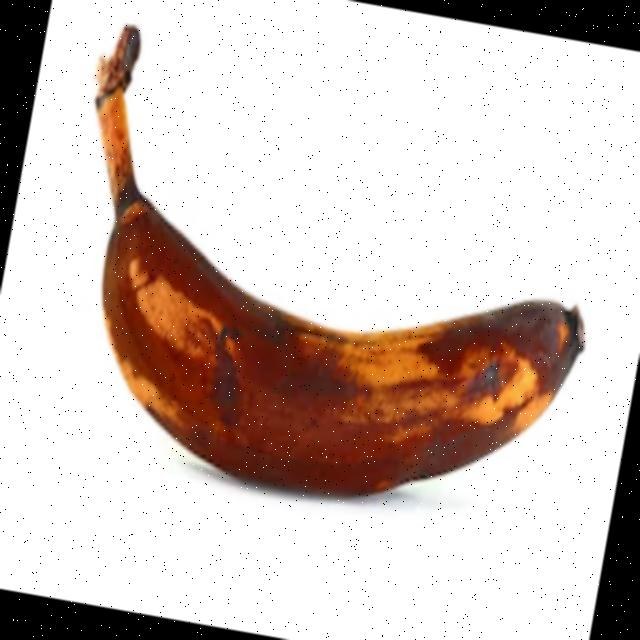Rotten: (10, 5, 634, 566)
